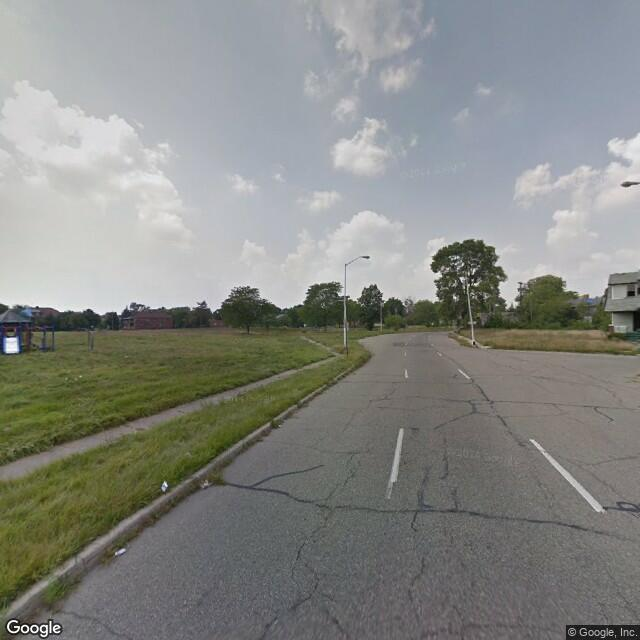litter: (155, 478, 176, 492), (108, 543, 130, 556), (201, 473, 212, 488)
